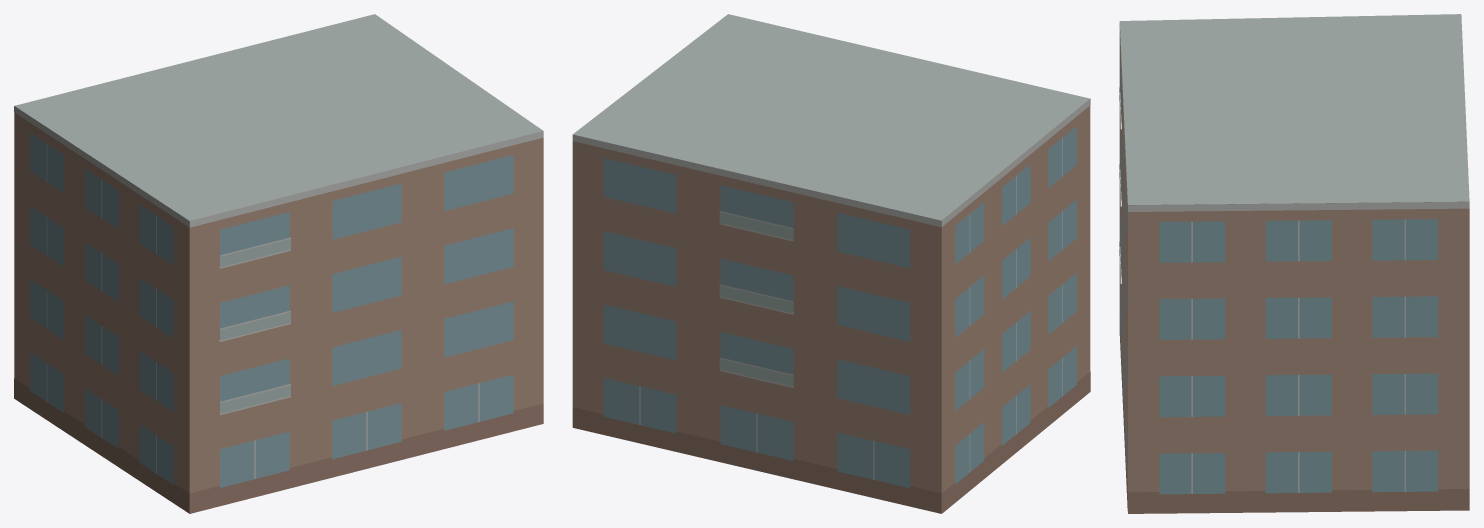
File: survey-upis-32602801.glb
The picture shows the model from 3 angles, left to right: view 1: azimuth 30°, elevation 25°; view 2: azimuth 150°, elevation 25°; view 3: azimuth 270°, elevation 25°; orthographic projection. The views are drawn at different scales.
Visible parts, largest first — view 1: survey-upis-32602801.tmp; view 2: survey-upis-32602801.tmp; view 3: survey-upis-32602801.tmp.
Boxes of the visible parts, left/top/right/bottom form: survey-upis-32602801.tmp: left=14, top=14, right=543, bottom=513; survey-upis-32602801.tmp: left=572, top=14, right=1090, bottom=513; survey-upis-32602801.tmp: left=1119, top=14, right=1469, bottom=513.
Size of the model in its own units: 14.41 by 10.85 by 11.17.
